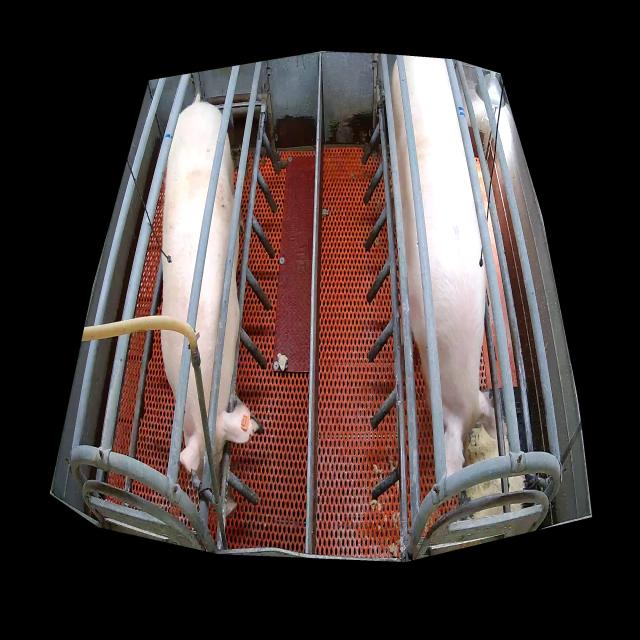pig: (392, 58, 496, 477), (160, 101, 258, 496)
